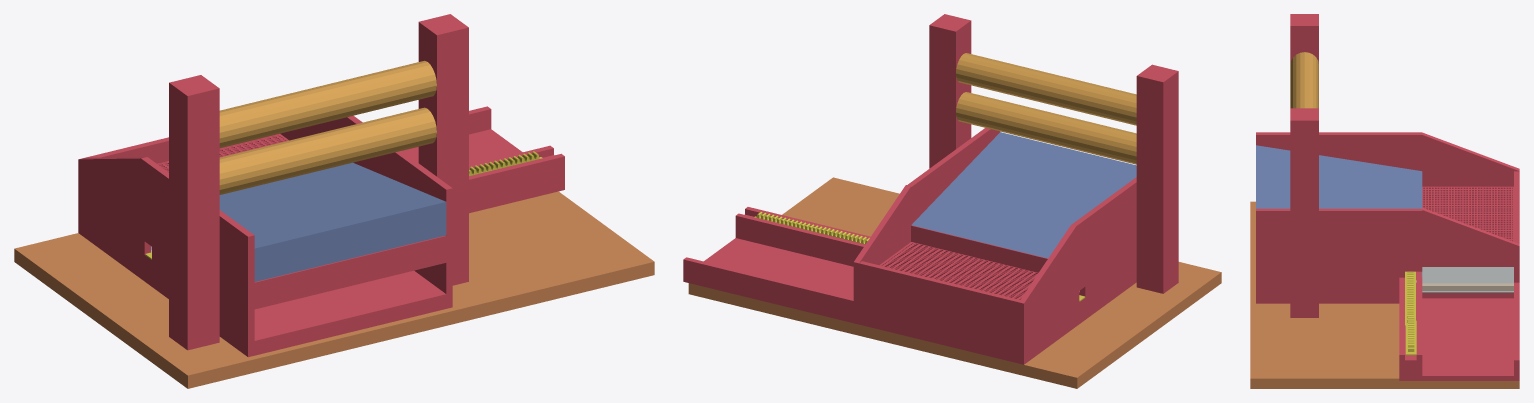
3 views of the same model, side by side, from view 1: azimuth 30°, elevation 25°; view 2: azimuth 150°, elevation 25°; view 3: azimuth 270°, elevation 25° (orthographic). The views are drawn at different scales.
Visible parts, largest first — view 1: Mesh_Mesh_head_geo.001_lambert2SG.001; view 2: Mesh_Mesh_head_geo.001_lambert2SG.001; view 3: Mesh_Mesh_head_geo.001_lambert2SG.001.
Part boxes in pixels (x1=…): Mesh_Mesh_head_geo.001_lambert2SG.001: x1=14, y1=14, x2=654, y2=388; Mesh_Mesh_head_geo.001_lambert2SG.001: x1=683, y1=14, x2=1221, y2=388; Mesh_Mesh_head_geo.001_lambert2SG.001: x1=1250, y1=14, x2=1519, y2=388.
Size of the model in its own units: 74 by 40 by 47.
